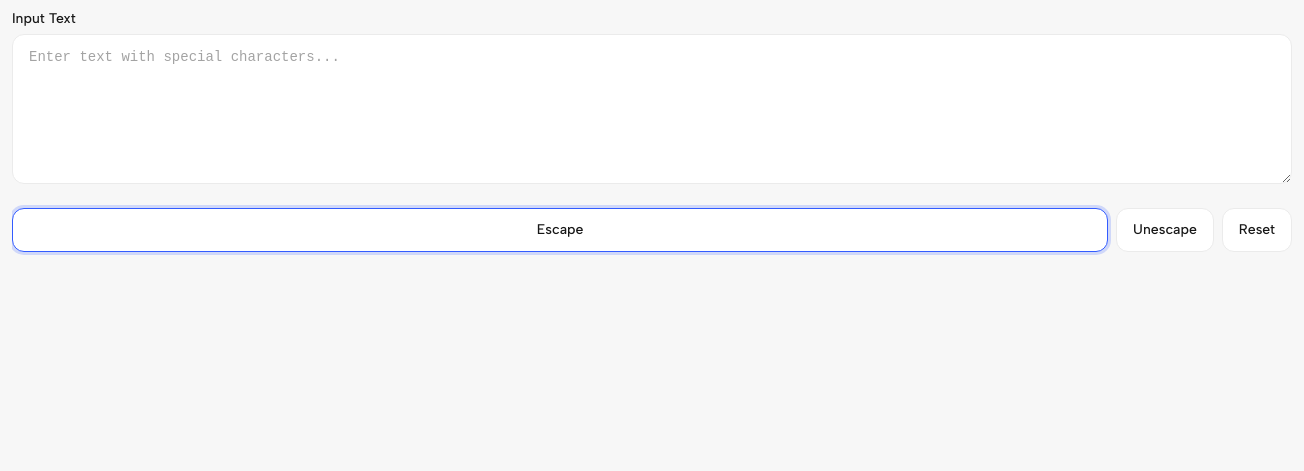
Test: EscapeUnescapeTool › escapes double quotes correctly
This screenshot has width=1304, height=471.
Type "He said \"Hello\"" into the text box with placeholder "Enter text with special characters..." at [652, 109], box [12,34,1292,184]
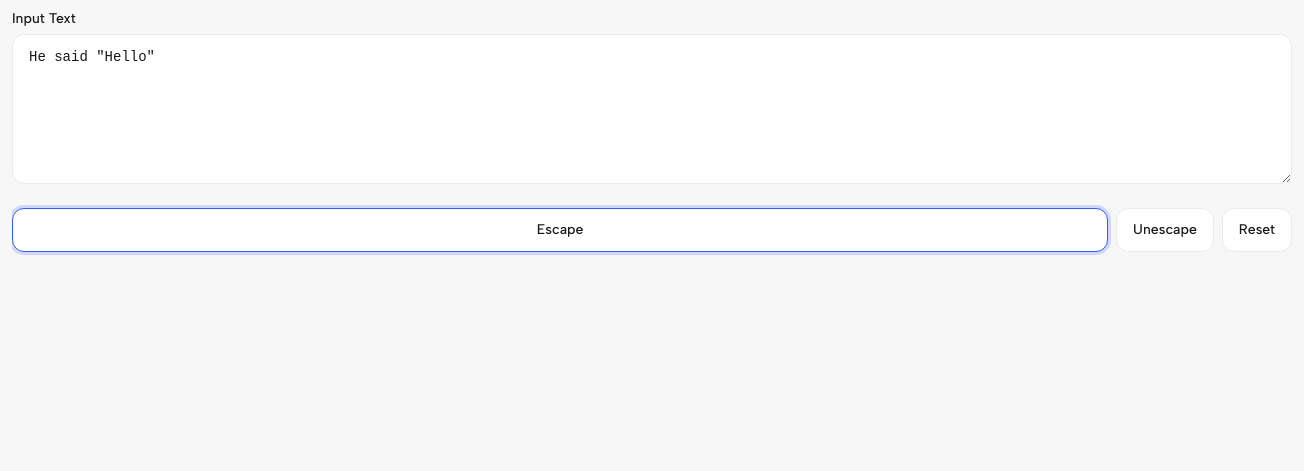
Click the button "Escape" at [560, 230], box [12,208,1108,252]
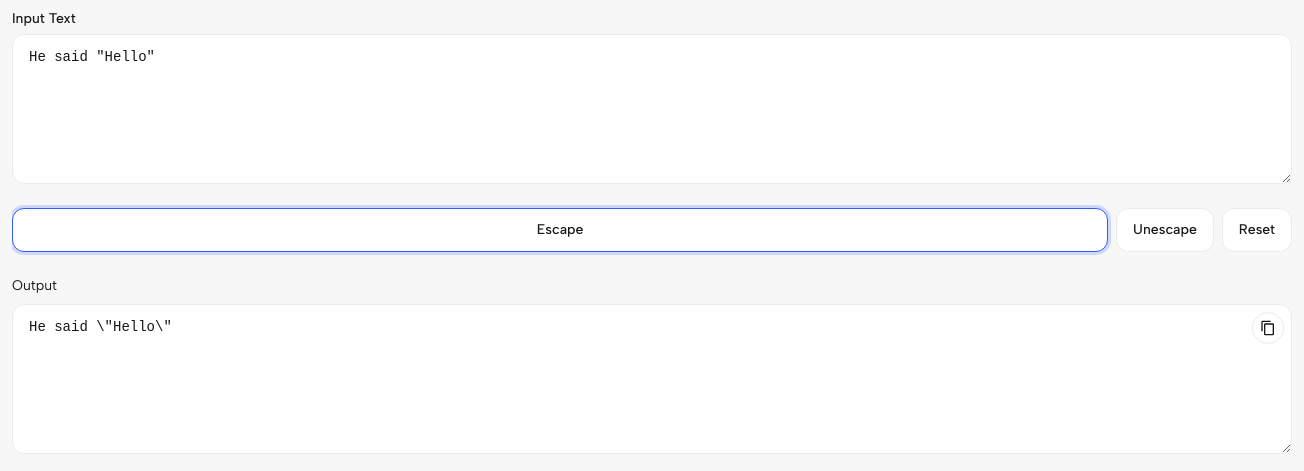
Now the text box below "Output" holds "He said \\\"Hello\\\"", box [12,304,1292,454]
